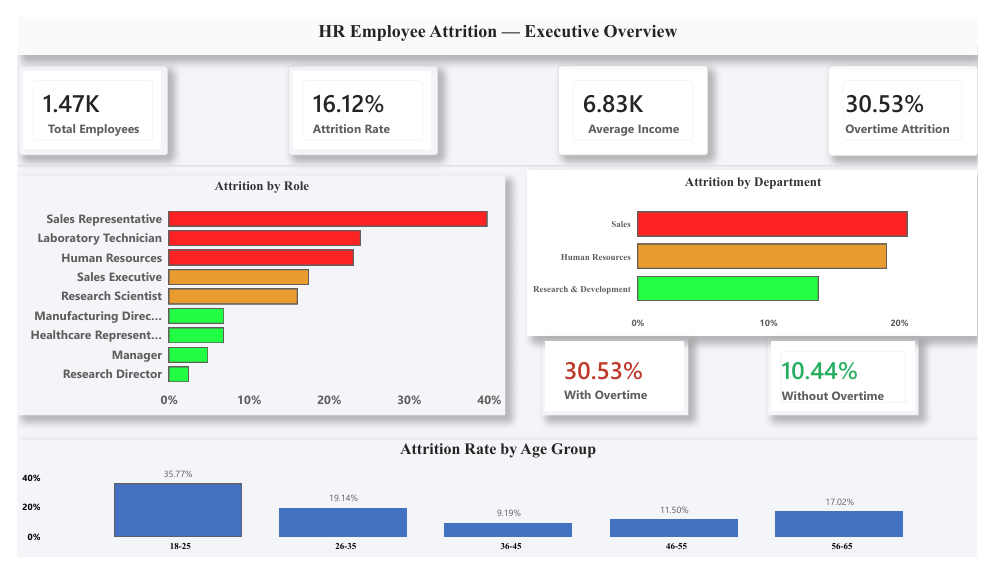

This screenshot's page, from the dashboard's own definition file:
{"tool":"powerbi","page":{"name":"Executive overview","canvas":[1280,720],"ordinal":0},"visuals":[{"type":"cardVisual","title":"Total employees","fields":{"Data":["Measures_.Total_Employees"]},"box":[0,62.7,200,120],"z":0},{"type":"cardVisual","title":"Attrition rate","fields":{"Data":["Measures_.Attrition_Rate"]},"box":[360,62.9,200,120],"z":1000},{"type":"cardVisual","title":"Avg Income (Stayed)","fields":{"Data":["Measures_.Avg_Income_(Stayed)"]},"box":[720,62.7,200,120],"z":2000},{"type":"cardVisual","title":"Overtime Attrition Rate","fields":{"Data":["Measures_.Overtime_Attrition_Rate"]},"box":[1080,63.2,199.8,120.5],"z":3000},{"type":"clusteredBarChart","title":"Attrition by Role","fields":{"Category":["HR_EMPLOYEE.JobRole"],"Y":["Measures_.Attrition_Rate"]},"box":[0,210,650,320],"z":4000},{"type":"clusteredBarChart","title":"Attrition by Department","fields":{"Category":["HR_EMPLOYEE.Department"],"Y":["Measures_.Attrition_Rate"]},"box":[680.3,204.2,600,221.1],"z":5000,"group":"g1"},{"type":"clusteredColumnChart","title":"Attrition Rate by Age Group","fields":{"Y":["Measures_.Attrition_Rate"],"Category":["HR_EMPLOYEE.Age_Group"]},"box":[0,561.7,1280.2,158.3],"z":5000},{"type":"textbox","box":[0,0,1280.2,50],"z":6000},{"type":"cardVisual","fields":{"Data":["Measures_.Overtime_Attrition_Rate"]},"box":[698.9,426.8,195.4,103.6],"z":6000,"group":"g1"},{"type":"group","id":"g1","title":"Group 1","box":[680.3,204.2,599.5,326.2],"z":7000},{"type":"cardVisual","fields":{"Data":["Measures_.Overtime_Attrition_Rate_1"]},"box":[1000.1,426.8,201.3,103.6],"z":7000,"group":"g1"},{"type":"shape","box":[0,191,1280,12],"z":8000}]}

Visuals, with their boxes in screenshot pixels (x1, y1, x2, y2), scaled from the page's 1280x720 canvas onto the 995x576 screenshot:
"Total employees" cardVisual: 0/50/155/146
"Attrition rate" cardVisual: 280/50/435/146
"Avg Income (Stayed)" cardVisual: 560/50/715/146
"Overtime Attrition Rate" cardVisual: 840/51/994/147
"Attrition by Role" clusteredBarChart: 0/168/505/424
"Attrition by Department" clusteredBarChart: 529/163/994/340
"Attrition Rate by Age Group" clusteredColumnChart: 0/449/994/575
textbox: 0/0/994/40
cardVisual - Measures_.Overtime_Attrition_Rate: 543/341/695/424
"Group 1" group: 529/163/994/424
cardVisual - Measures_.Overtime_Attrition_Rate_1: 777/341/934/424
shape: 0/153/994/162
